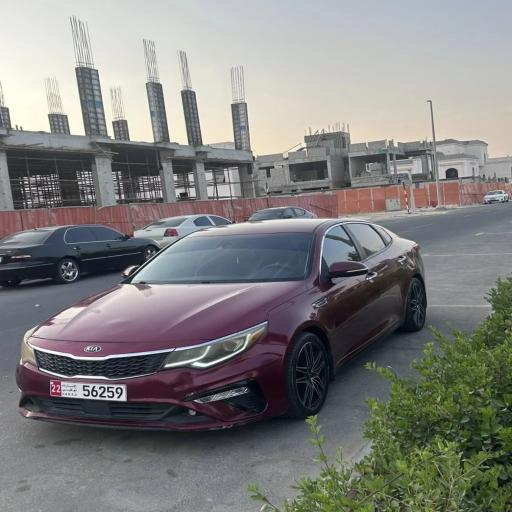license-plates: (50, 380, 126, 402)
